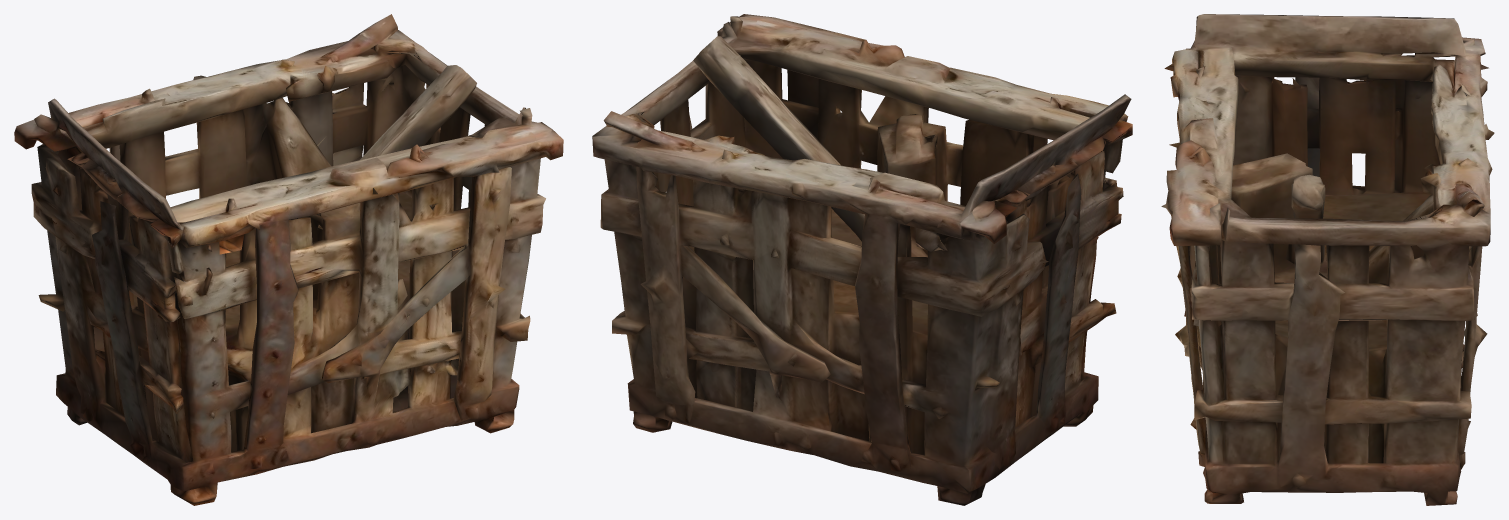
Rendered from tripo_convert_8ae3a3e5-f2a9-46e2-a566-cbe4368d24f8.fbx.
3 views of the same model, side by side, from view 1: azimuth 30°, elevation 25°; view 2: azimuth 150°, elevation 25°; view 3: azimuth 270°, elevation 25° (orthographic). The views are drawn at different scales.
Parts seen in each view (by area): view 1: tripo_node_8ae3a3e5; view 2: tripo_node_8ae3a3e5; view 3: tripo_node_8ae3a3e5.
Boxes of the visible parts, x1,y1,x2,y2 form: tripo_node_8ae3a3e5: (14, 14, 563, 505); tripo_node_8ae3a3e5: (592, 14, 1132, 505); tripo_node_8ae3a3e5: (1161, 14, 1494, 505).
Bounding box in the file's own units: 1 × 0.7824 × 0.7211.
Materials: 1 (1 with a texture image).
